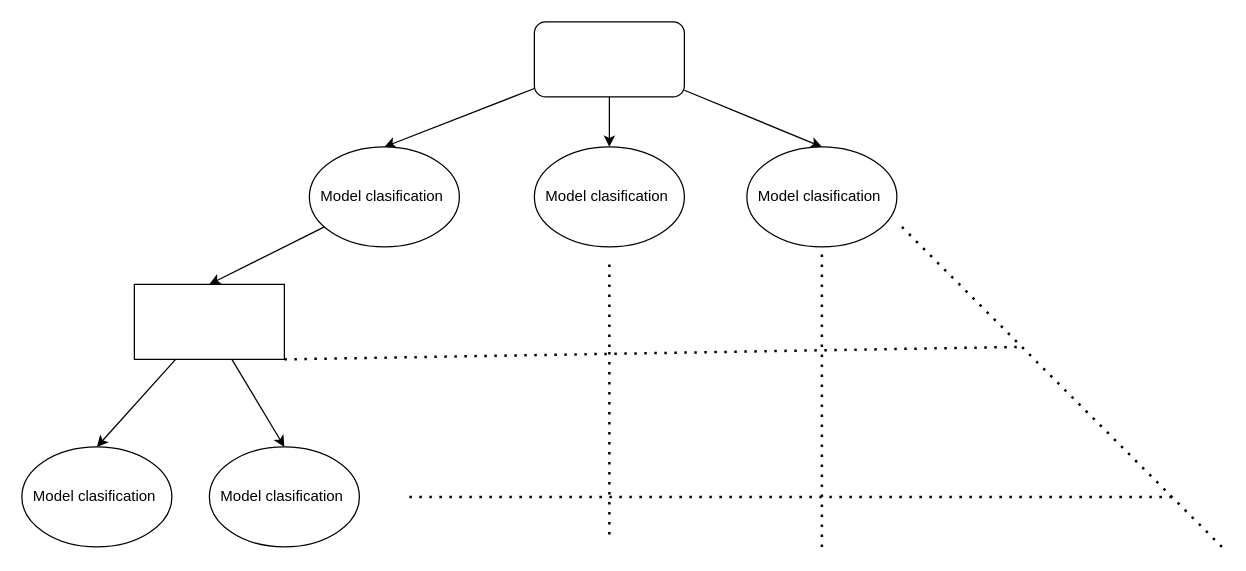
Image size: 1246x571. Some labels were removed from this diagram. Here are the shapes that lost their labels. From the top down, the centre of each, then its label:
point (608, 59): First Promt
point (208, 321): Promt asking sub cotogary if exists
